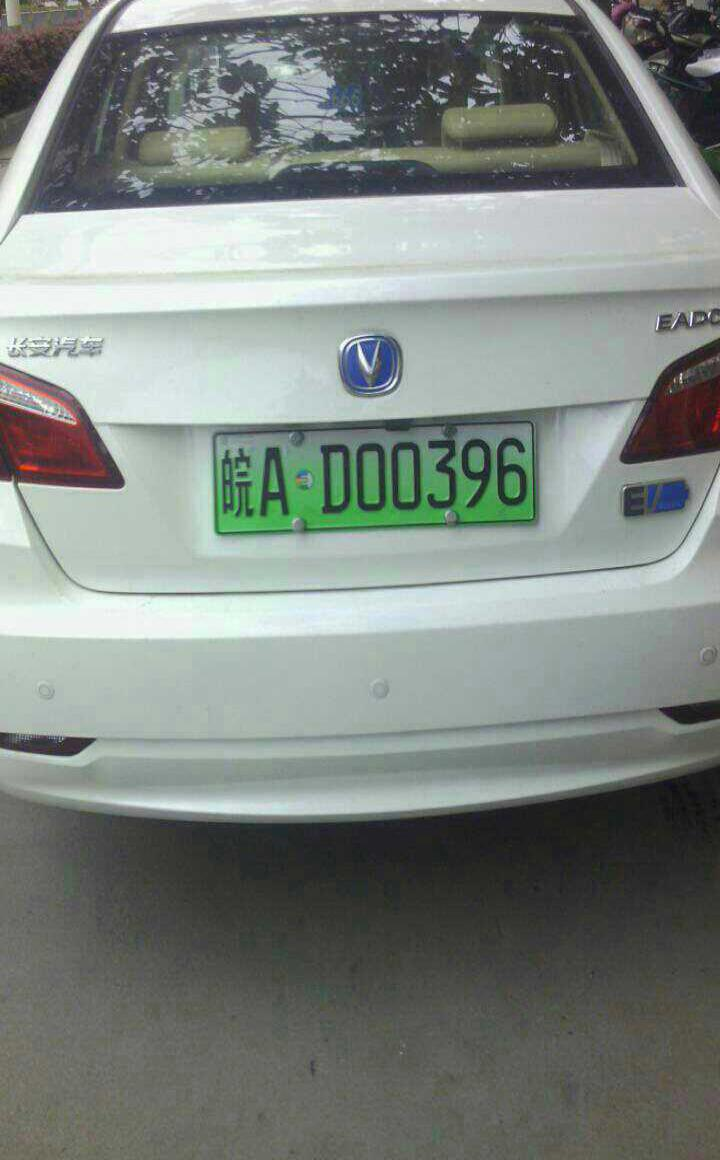car_id: (214, 422, 535, 534)
